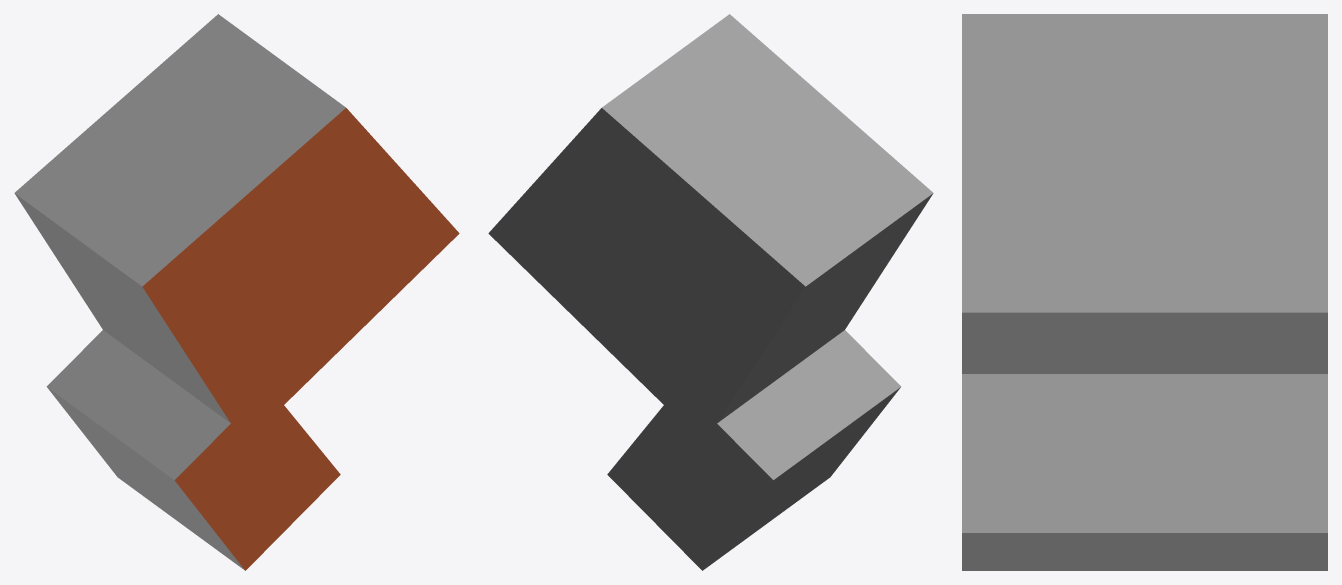
File: construction_3739_assumed_A_Casa_h6m.obj
3 views of the same model, side by side, from view 1: azimuth 30°, elevation 25°; view 2: azimuth 150°, elevation 25°; view 3: azimuth 270°, elevation 25° (orthographic). The views are drawn at different scales.
Parts seen in each view (by area): view 1: construction_3739_assumed_A_Casa; view 2: construction_3739_assumed_A_Casa; view 3: construction_3739_assumed_A_Casa.
Part boxes in pixels (<box>): construction_3739_assumed_A_Casa: <box>14,14,459,570</box>; construction_3739_assumed_A_Casa: <box>488,14,933,570</box>; construction_3739_assumed_A_Casa: <box>962,14,1327,570</box>.
Bounding box in the file's own units: 8.59 × 11.35 × 6.
